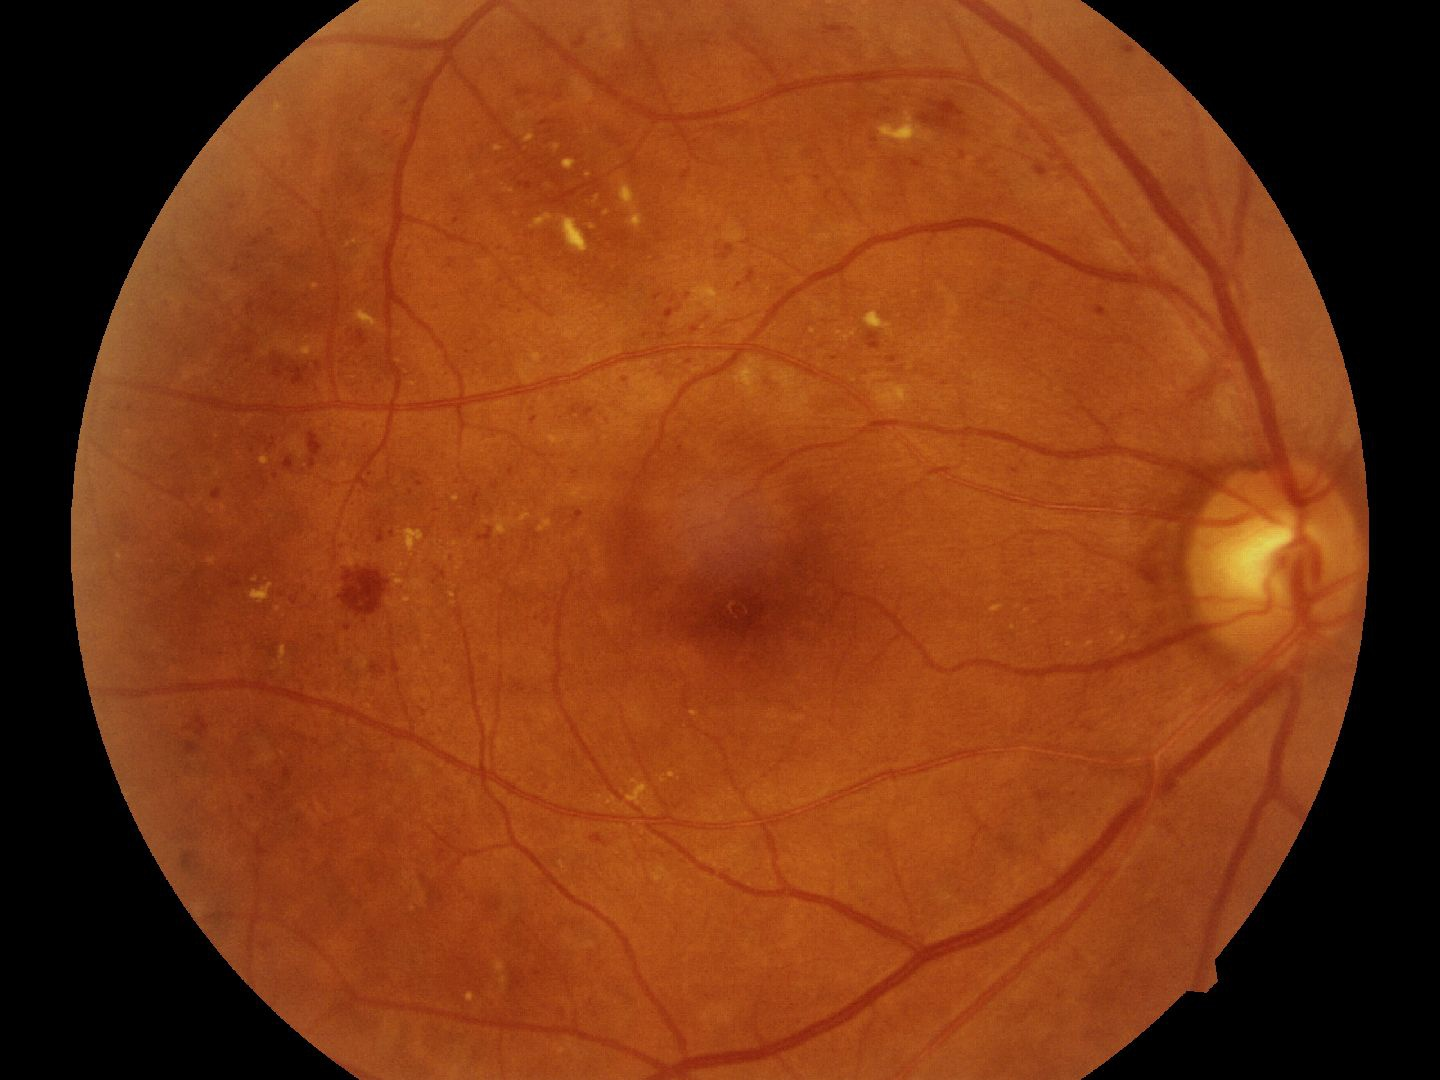Exudates: (520, 119, 653, 267), (880, 110, 925, 149)
Hemorrhages: (642, 434, 842, 684)
Microaneurysms: (342, 562, 393, 621)
Optic-Disc: (1218, 448, 1357, 687)
